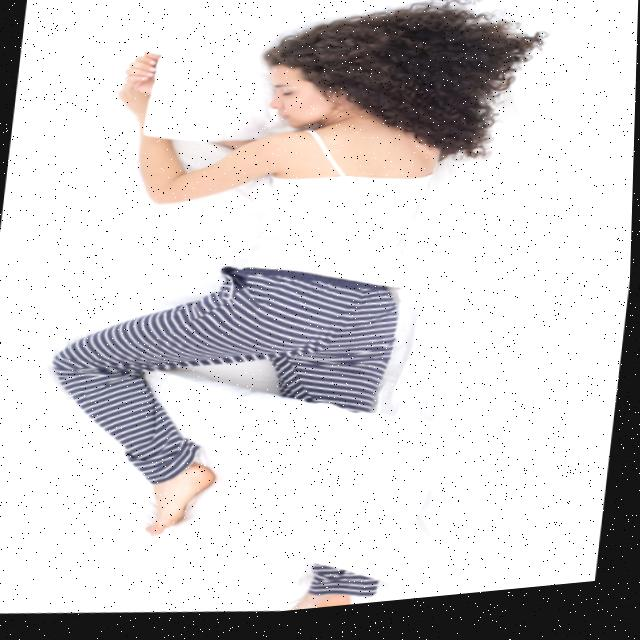sleeping-person: (19, 0, 608, 637)
